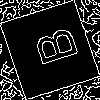B: (24, 24, 79, 71)
